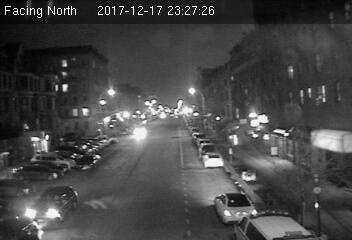car: (25, 184, 78, 225), (212, 192, 264, 227), (76, 153, 102, 169), (200, 151, 224, 167)
police: (229, 207, 323, 240)
